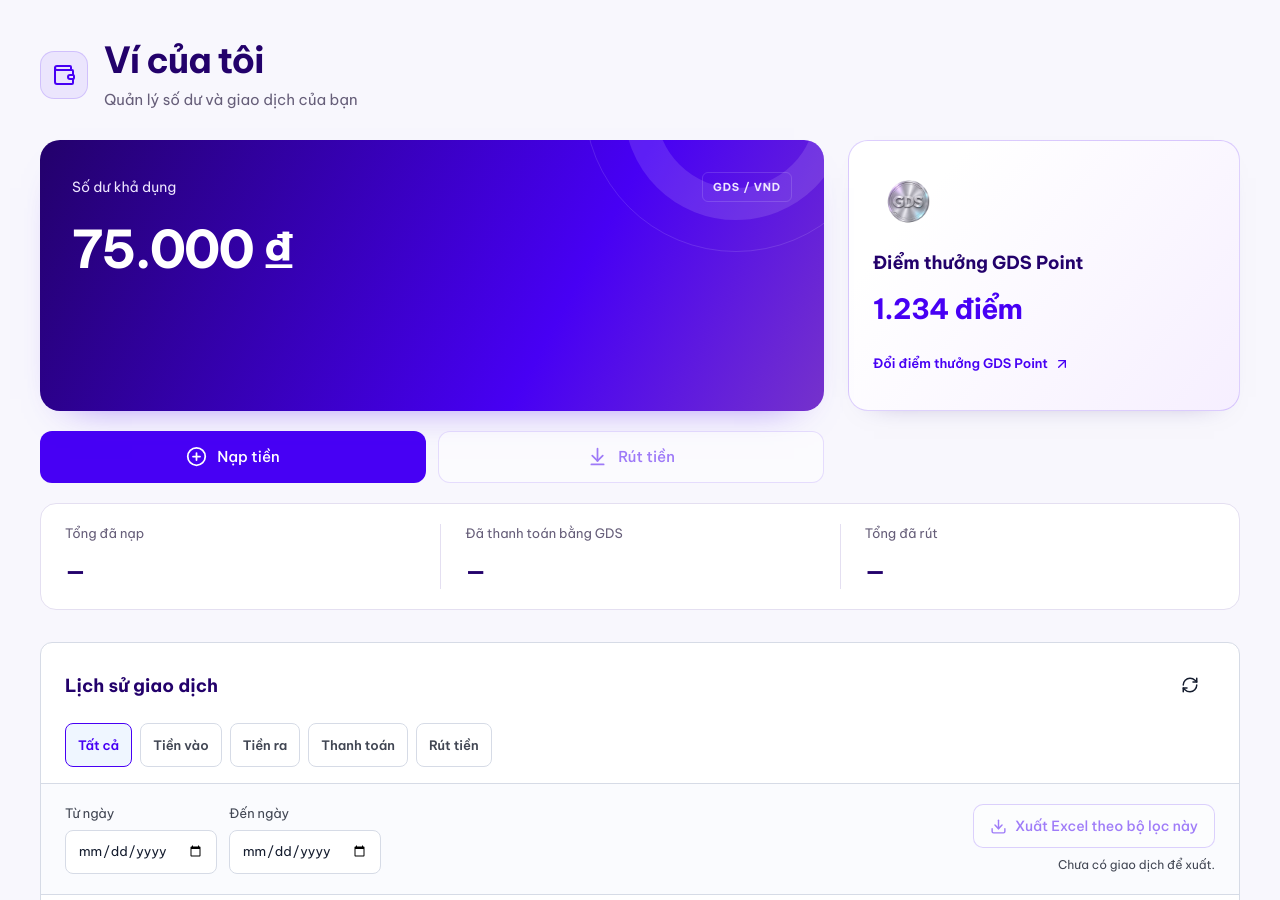
Test: PAYW-04D wallet QR presentation › never renders a mismatched QR or falsely credits the balance
The image size is (1280, 900).
Click the button "Nạp tiền".
click(233, 457)  # box x1=40 y1=431 x2=426 y2=483
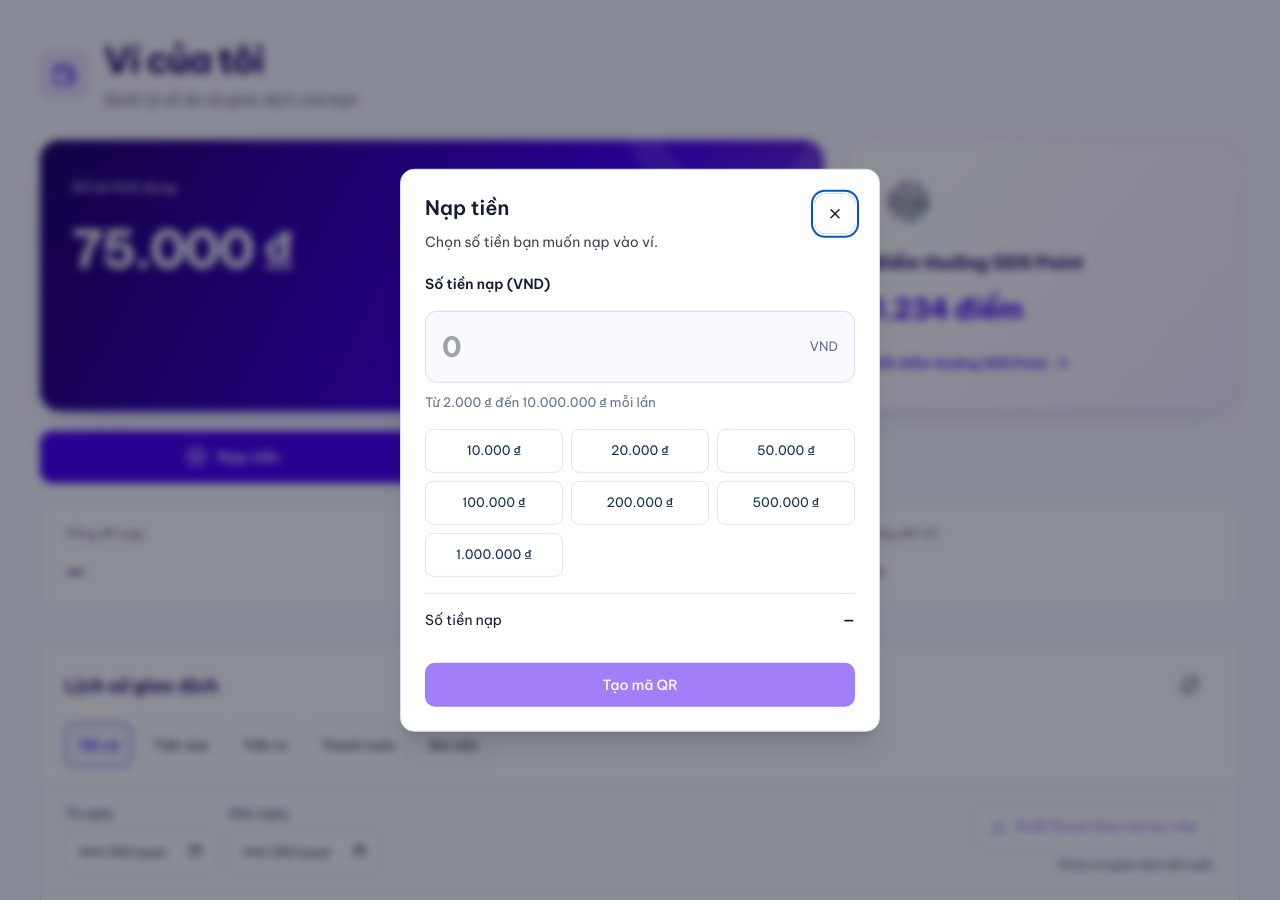
Type "100000" into the field.
click(622, 347); type("100000")  # box x1=442 y1=326 x2=802 y2=368
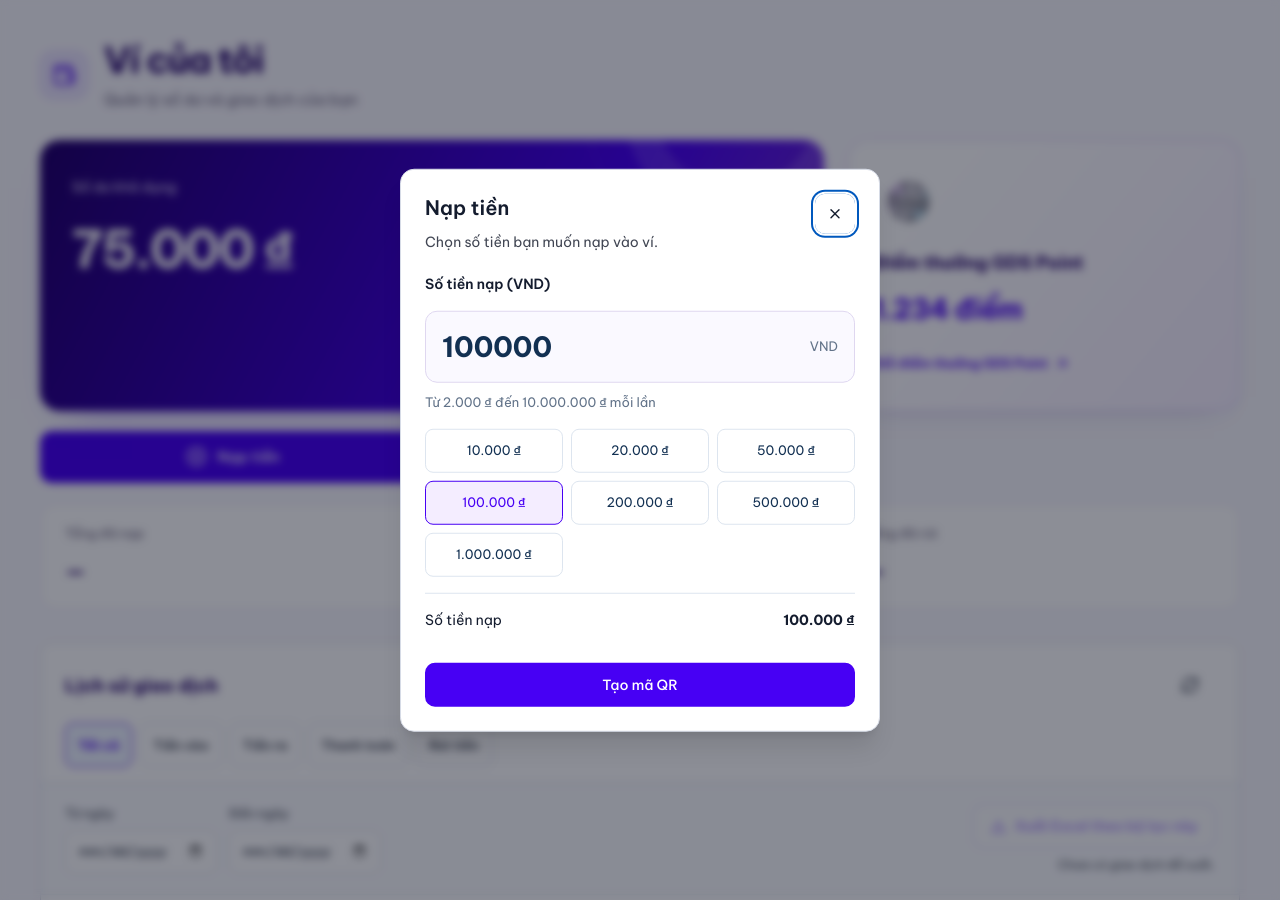
Click the button "Tạo mã QR".
click(640, 684)  # box x1=425 y1=662 x2=855 y2=706
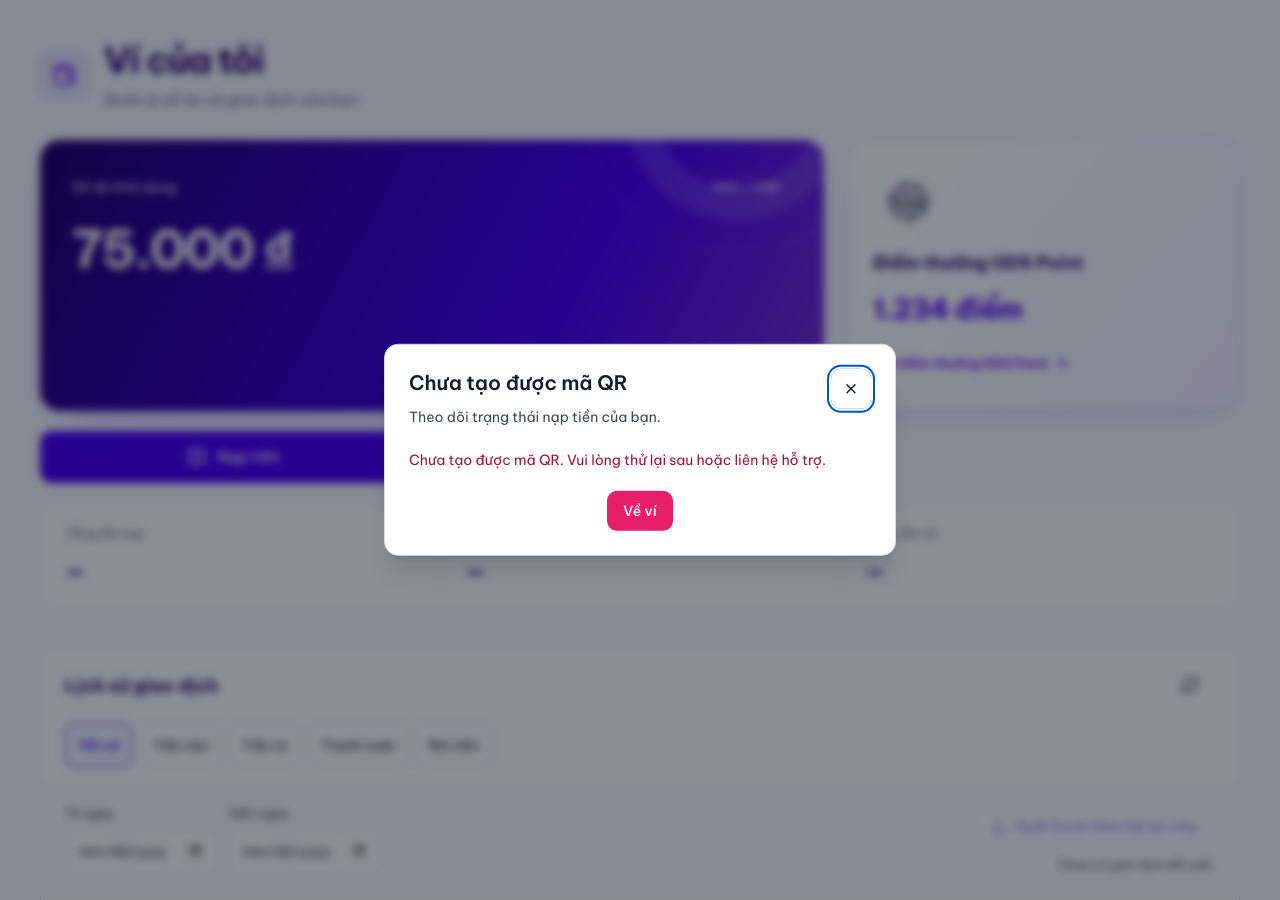
expect the message "Chưa tạo được mã QR. Vui lòng thử lại sau hoặc liên hệ hỗ trợ." is shown: met, box x1=409 y1=449 x2=871 y2=471
